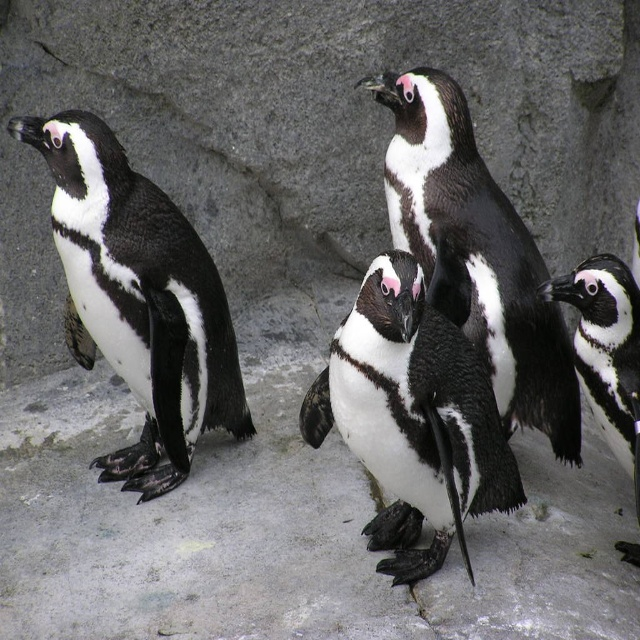Penguin: (354, 59, 591, 475), (18, 109, 253, 506), (296, 255, 522, 595), (534, 251, 640, 567)
